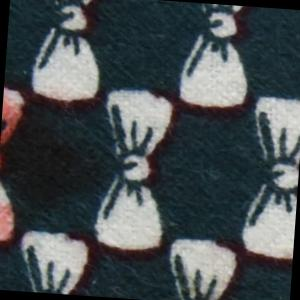Stain: (1, 79, 116, 259)
